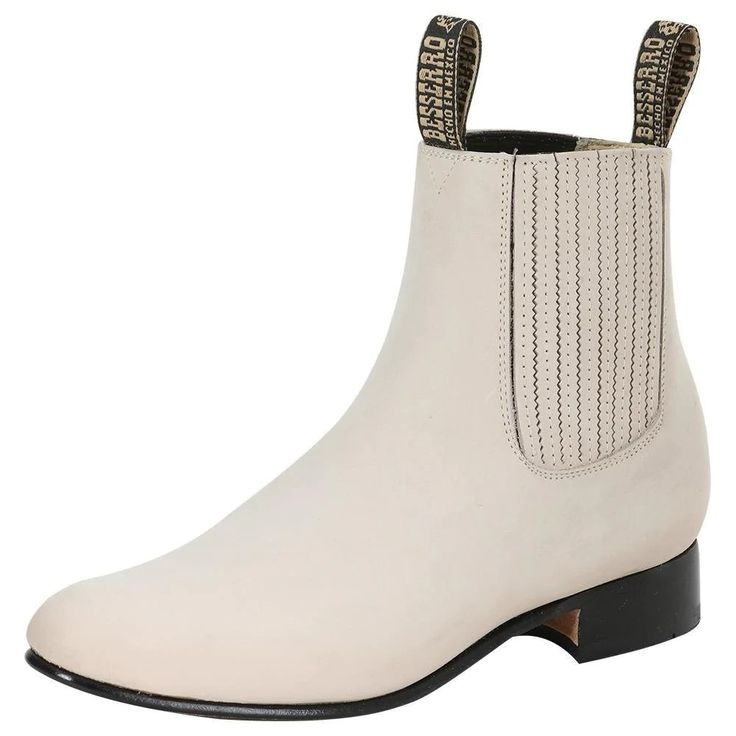gamuza: (25, 143, 710, 704)
